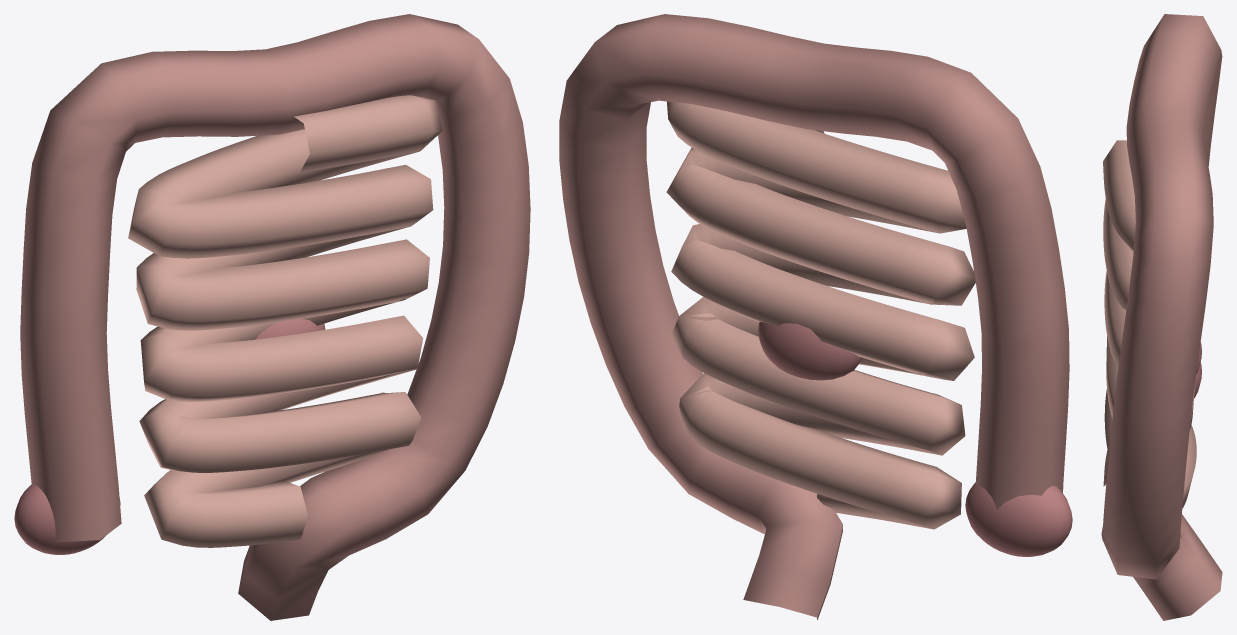
File: intestines.glb
The picture shows the model from 3 angles, left to right: view 1: azimuth 30°, elevation 25°; view 2: azimuth 150°, elevation 25°; view 3: azimuth 270°, elevation 25°; orthographic projection. The views are drawn at different scales.
Parts seen in each view (by area): view 1: intestines-305, intestines-304, dev-marker-appendix, dev-marker-small-intestine; view 2: intestines-305, intestines-304, dev-marker-appendix, dev-marker-small-intestine; view 3: intestines-305, intestines-304.
Boxes of the visible parts, bbox=[...] form: intestines-305: bbox=[20, 14, 530, 620]; intestines-304: bbox=[128, 95, 442, 547]; dev-marker-appendix: bbox=[14, 484, 120, 554]; dev-marker-small-intestine: bbox=[255, 319, 325, 339]; intestines-305: bbox=[559, 14, 1069, 619]; intestines-304: bbox=[666, 101, 975, 529]; dev-marker-appendix: bbox=[965, 482, 1072, 556]; dev-marker-small-intestine: bbox=[758, 322, 862, 380]; intestines-305: bbox=[1101, 14, 1222, 620]; intestines-304: bbox=[1103, 140, 1196, 508].
Bounding box in the file's own units: 0.8505 × 0.9528 × 0.1988.
